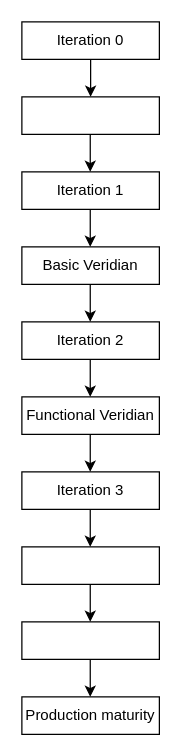
This 181x756 diagram has some shape labels left out. Here are the shapes that lost their labels. From the top down, the box of each, then its label:
(21, 96, 159, 134): System Skeleton
(21, 546, 159, 584): Advanced Veridian
(21, 621, 159, 659): Iteration 4+
